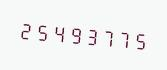five: (33, 15, 48, 46), (129, 24, 144, 55)
four: (49, 17, 64, 48)
nine: (65, 18, 80, 49)
seven: (97, 21, 112, 52), (113, 22, 128, 53)
three: (81, 19, 96, 51)
two: (17, 14, 32, 45)
